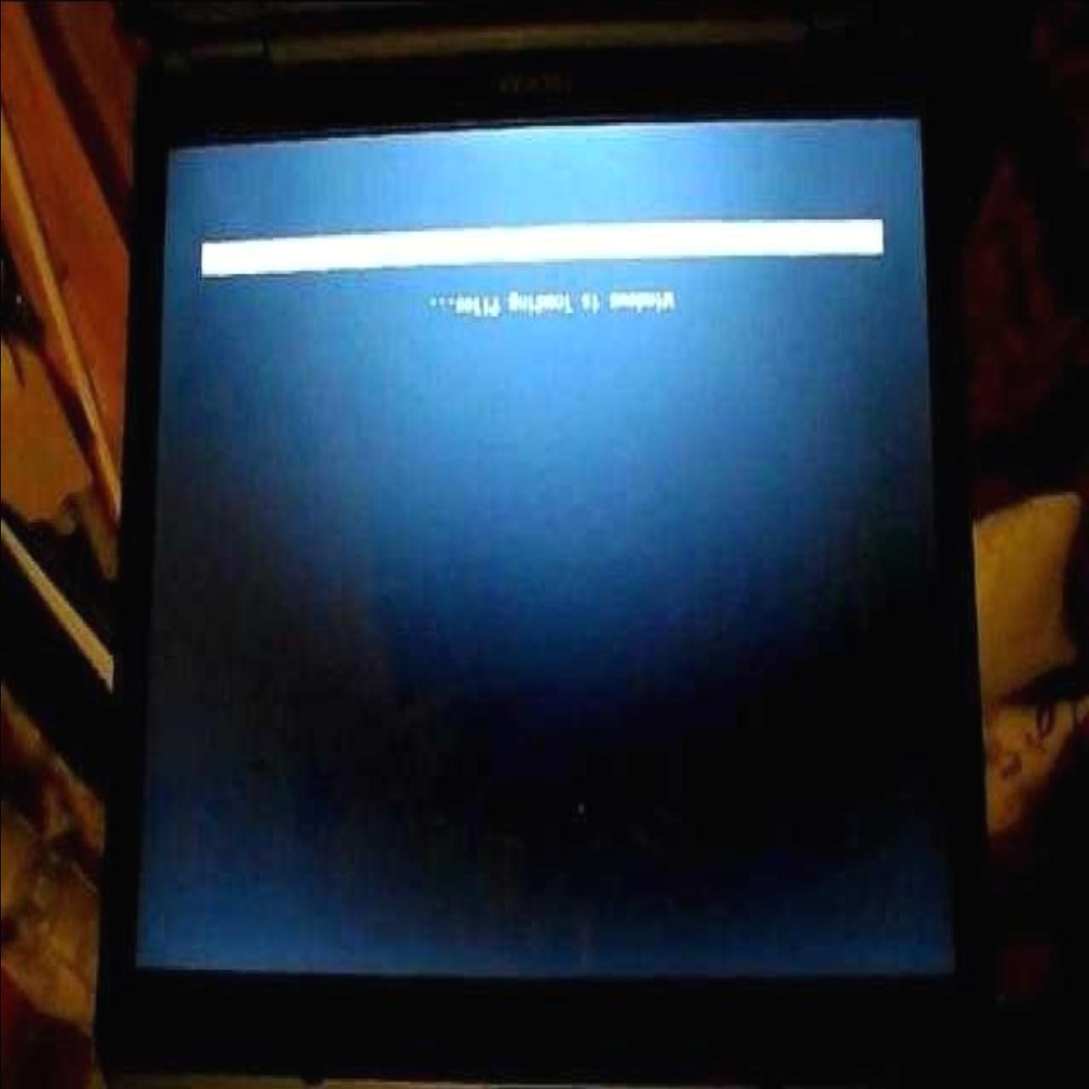laptop: (114, 1, 978, 1013)
